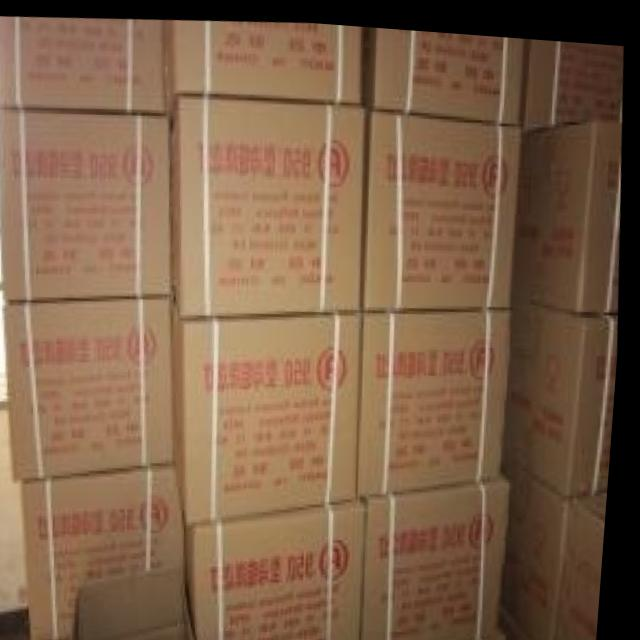box: (173, 91, 370, 316), (177, 296, 367, 522), (0, 108, 176, 301), (6, 295, 179, 482), (370, 103, 524, 306), (27, 461, 192, 640), (365, 300, 512, 494), (192, 494, 374, 640), (369, 469, 513, 640), (510, 288, 620, 491), (518, 112, 623, 308), (165, 20, 366, 114), (366, 21, 524, 123), (0, 18, 168, 113), (505, 452, 578, 640), (522, 31, 623, 122), (83, 567, 208, 640), (560, 482, 614, 640), (462, 601, 512, 640), (508, 600, 542, 640)
